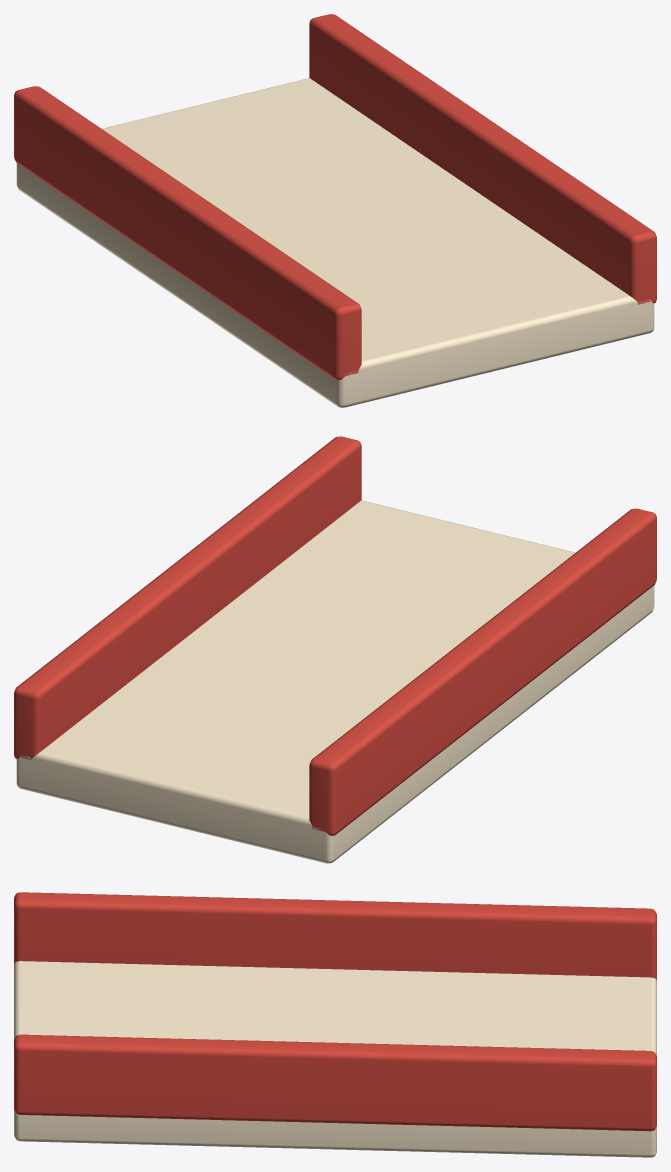
Rendered from A15_StraightChannel.fbx.
3 renders of one model, top to bottom at view 1: azimuth 30°, elevation 25°; view 2: azimuth 150°, elevation 25°; view 3: azimuth 270°, elevation 25°, orthographic.
Visible parts, largest first — view 1: Vanilla straight deck, Red upright rail, Red upright rail.001; view 2: Vanilla straight deck, Red upright rail, Red upright rail.001; view 3: Vanilla straight deck, Red upright rail.001, Red upright rail.
Boxes of the visible parts, <box> form: Vanilla straight deck: <box>16,78,654,407</box>; Red upright rail: <box>14,86,361,380</box>; Red upright rail.001: <box>309,14,656,304</box>; Vanilla straight deck: <box>16,500,654,863</box>; Red upright rail: <box>309,508,656,835</box>; Red upright rail.001: <box>14,436,361,760</box>; Vanilla straight deck: <box>14,961,656,1157</box>; Red upright rail.001: <box>14,1034,656,1131</box>; Red upright rail: <box>14,892,656,979</box>.
Size of what is drawn, in the model's own units: 0.12 by 0.0419 by 0.21.
